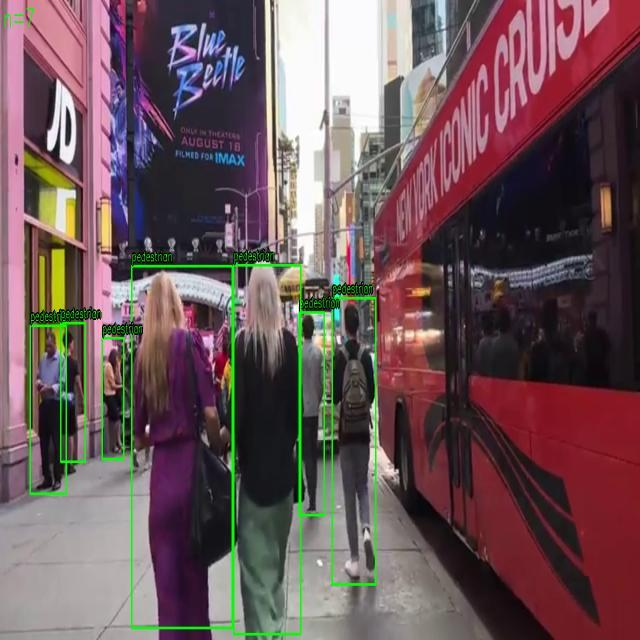with scooter: (132, 266, 232, 628), (233, 265, 301, 635), (332, 298, 376, 585), (29, 326, 66, 494), (299, 312, 325, 516), (60, 322, 86, 462), (102, 338, 124, 460)
